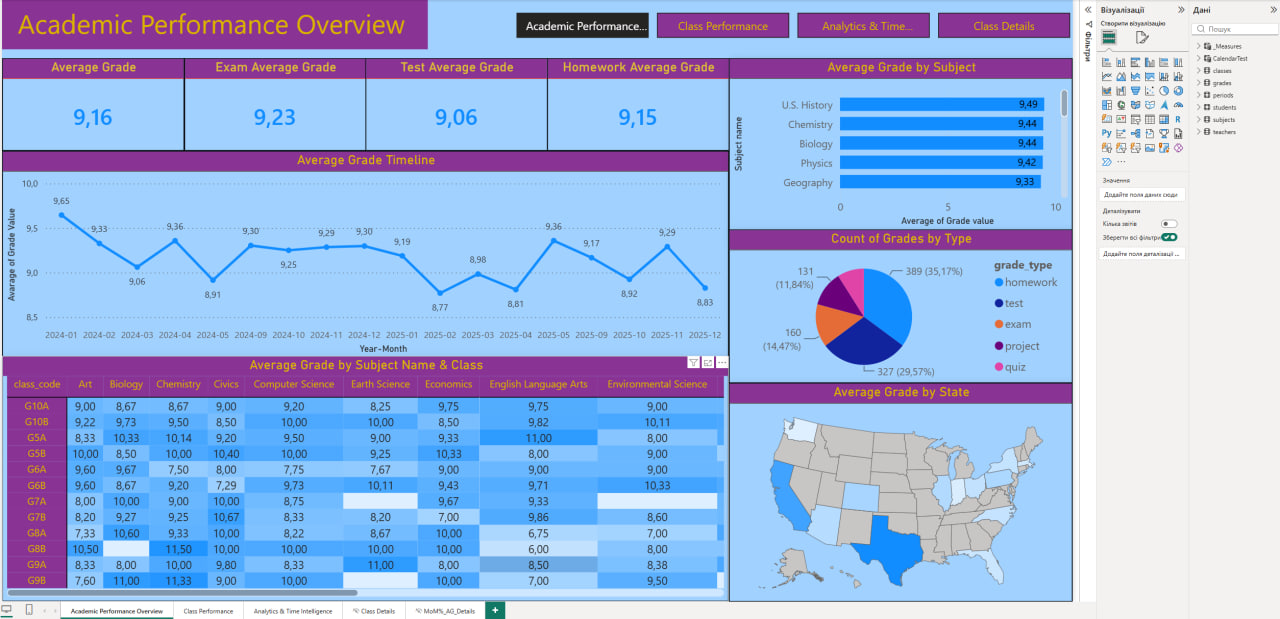

The page's visual inventory and layout, read from the dashboard file:
{"tool":"powerbi","page":{"name":"Academic Performance Overview ","canvas":[1280,720],"ordinal":0},"visuals":[{"type":"cardVisual","title":"Average Grade","fields":{"Data":["Avg(grades.grade_value)"]},"box":[0,69.4,217.6,111.2],"z":0,"group":"g1"},{"type":"barChart","title":"Average Grade by Subject","fields":{"Y":["Avg(grades.grade_value)"],"Category":["subjects.subject_name"]},"box":[868.8,69.4,411.2,205.5],"z":0,"group":"g2"},{"type":"lineChart","title":"Average Grade Timeline","fields":{"Category":["CalendarTest.Year-Month"],"Y":["Avg(grades.grade_value)"]},"box":[0,180.6,868.8,247.5],"z":0},{"type":"cardVisual","title":"Exam Average Grade","fields":{"Data":["Avg(grades.grade_value)"]},"box":[217.6,69.4,217.6,111.2],"z":1000,"group":"g1"},{"type":"pivotTable","title":"Average Grade by Subject Name & Class","fields":{"Rows":["classes.class_code"],"Columns":["subjects.subject_name"],"Values":["Avg(grades.grade_value)"]},"box":[0,426,869.1,294.3],"z":1000},{"type":"group","id":"g1","title":"Група 1","box":[0,69.4,869.4,111.2],"z":2000},{"type":"cardVisual","title":"Test Average Grade","fields":{"Data":["_Measures.Average_Grade_24_25"]},"box":[434.3,69.4,217.6,111.2],"z":2000,"group":"g1"},{"type":"cardVisual","title":"Homework Average Grade","fields":{"Data":["_Measures.Average_Grade_24_25"]},"box":[651.8,69.4,217.6,111.2],"z":3000,"group":"g1"},{"type":"group","id":"g2","title":"Група 2","box":[868.8,69.4,411.2,650.6],"z":3000},{"type":"pieChart","title":"Count of Grades by Type","fields":{"Category":["grades.grade_type"],"Y":["Count(grades.grade_id)"]},"box":[869,274.7,411.1,184],"z":3000,"group":"g2"},{"type":"textbox","title":"рпвапрв","box":[0,0,509.4,59.4],"z":4000},{"type":"shapeMap","title":"Average Grade by State","fields":{"Category":["students.state"],"Value":["Sum(grades.grade_value)"]},"box":[868.8,458,411.2,262],"z":4000,"group":"g2"},{"type":"pageNavigator","box":[615,15,665,30],"z":5000}]}

Visuals, with their boxes on the page's 1280x720 design canvas (x1, y1, x2, y2). These are canvas units, not pixel positions in the 1280x619 screenshot, which may show the page scaled, cropped or inside an application window:
"Average Grade" cardVisual: <box>0,69,218,181</box>
"Average Grade by Subject" barChart: <box>869,69,1280,275</box>
"Average Grade Timeline" lineChart: <box>0,181,869,428</box>
"Exam Average Grade" cardVisual: <box>218,69,435,181</box>
"Average Grade by Subject Name & Class" pivotTable: <box>0,426,869,720</box>
"Група 1" group: <box>0,69,869,181</box>
"Test Average Grade" cardVisual: <box>434,69,652,181</box>
"Homework Average Grade" cardVisual: <box>652,69,869,181</box>
"Група 2" group: <box>869,69,1280,720</box>
"Count of Grades by Type" pieChart: <box>869,275,1280,459</box>
"рпвапрв" textbox: <box>0,0,509,59</box>
"Average Grade by State" shapeMap: <box>869,458,1280,720</box>
pageNavigator: <box>615,15,1280,45</box>
